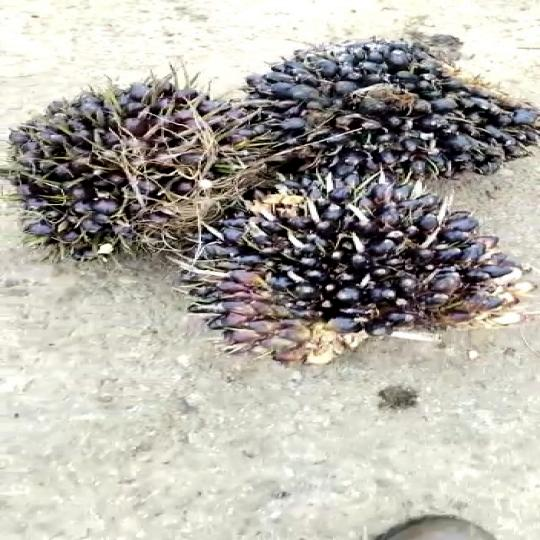mentah: (197, 180, 540, 360), (20, 80, 271, 258), (240, 39, 540, 186)
